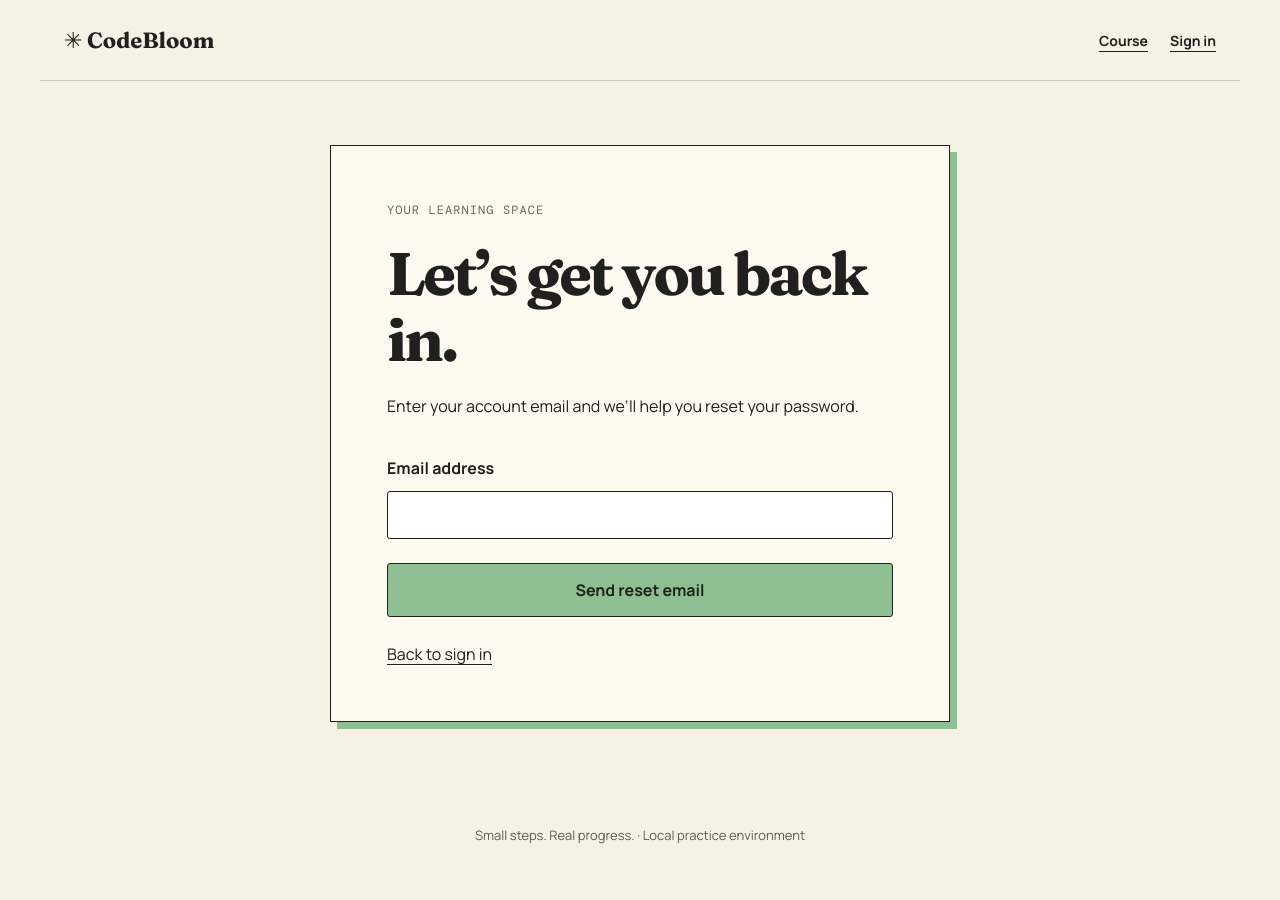
Test case: account and lesson routes › uses a neutral reset response even for nonexistent accounts
Type "unknown@example.test" into the field labelled "Email address" at (640, 515), box top-left (387, 491), bottom-right (893, 539)
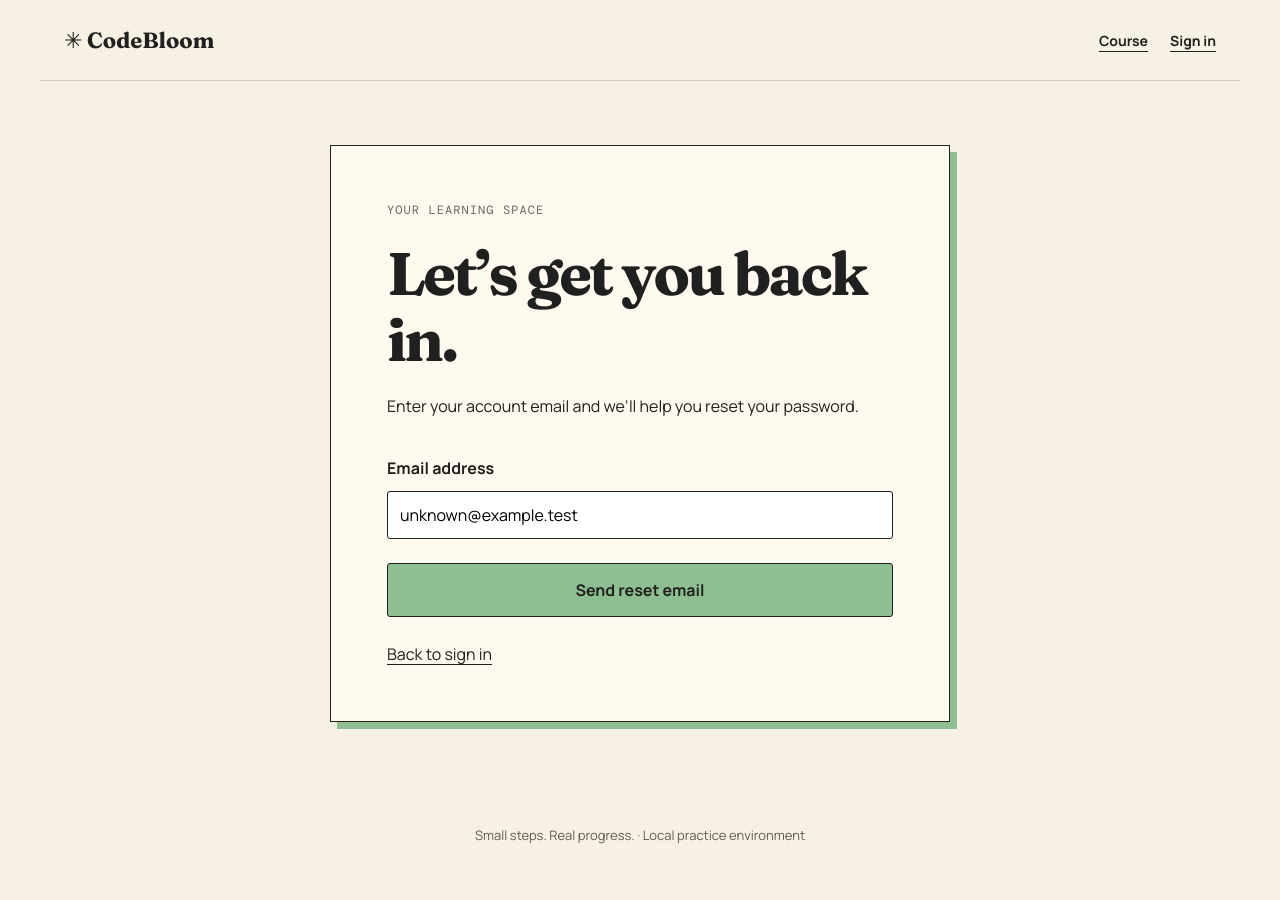
Click the button "Send reset email" at (640, 590), box top-left (387, 563), bottom-right (893, 617)
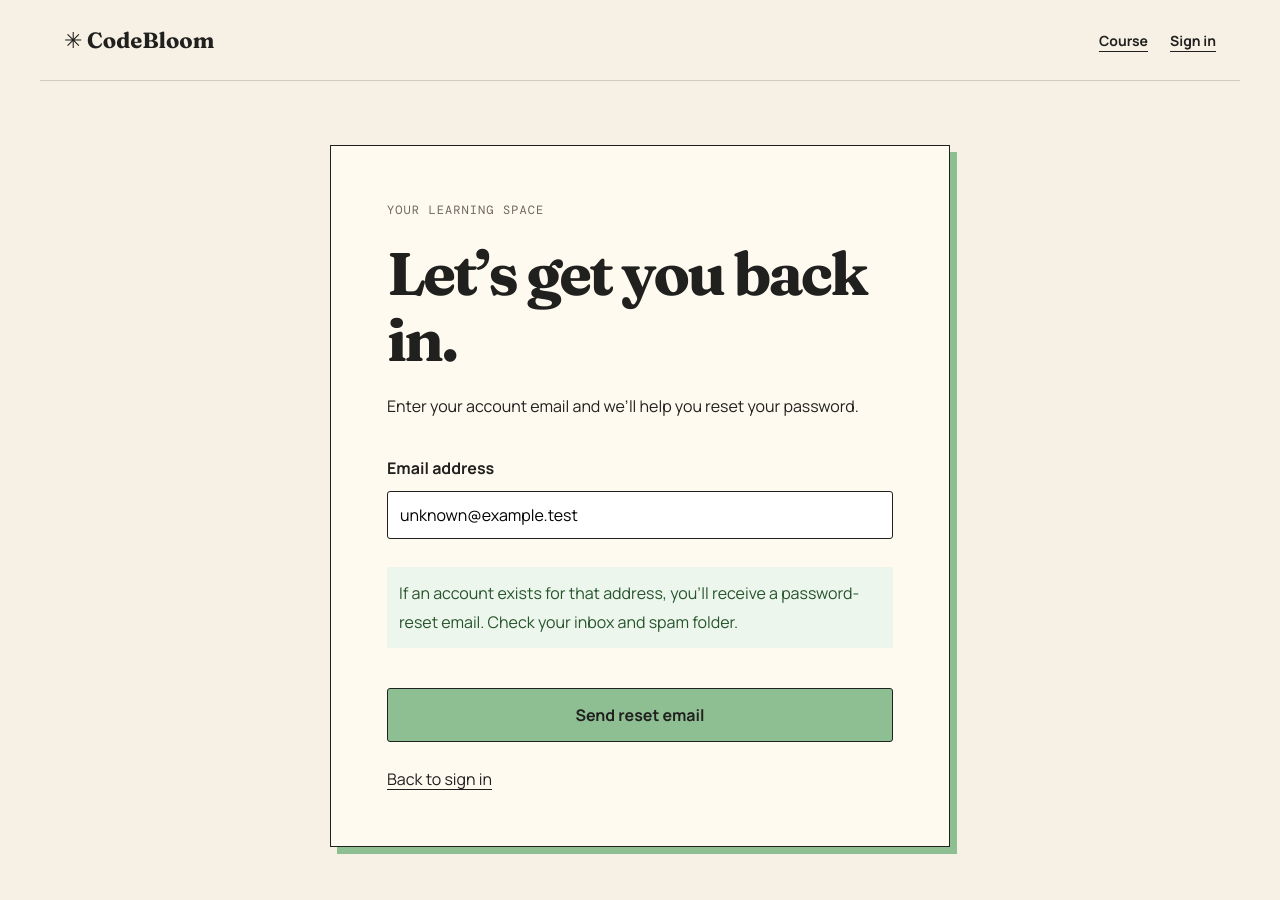
Now the message shows "If an account exists", box top-left (399, 582), bottom-right (859, 633)
